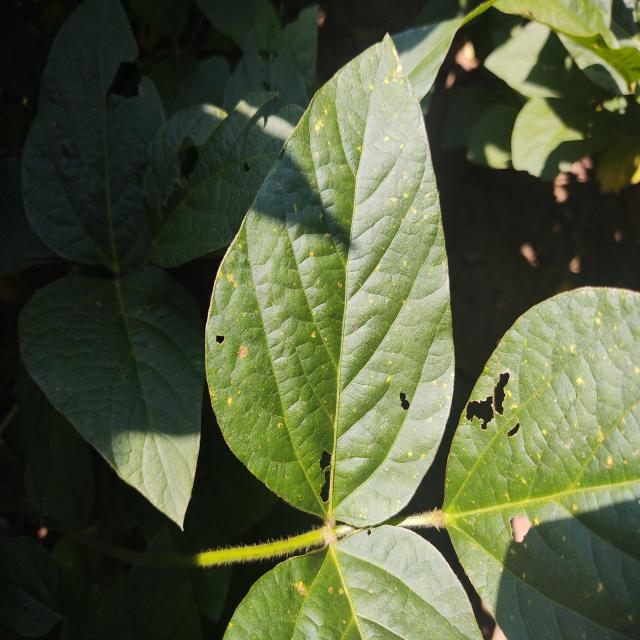Soybean: (57, 35, 492, 640)
downey_mildew: (354, 33, 426, 237), (54, 324, 167, 445), (360, 160, 440, 320), (37, 0, 143, 117), (305, 65, 358, 289), (47, 119, 128, 262), (178, 89, 273, 202), (263, 277, 337, 418), (101, 81, 168, 218), (460, 414, 537, 522), (286, 543, 371, 638), (338, 447, 432, 532), (580, 511, 640, 630), (439, 517, 503, 625), (336, 296, 402, 396), (335, 40, 377, 189), (287, 237, 361, 320), (149, 191, 231, 265), (522, 368, 582, 469), (493, 1, 624, 46), (473, 327, 530, 420), (562, 365, 605, 479), (150, 422, 197, 522), (517, 28, 579, 100), (506, 567, 565, 639), (596, 315, 640, 411), (550, 597, 630, 640), (560, 349, 605, 423), (583, 42, 640, 93), (515, 336, 556, 403), (140, 426, 169, 504)
